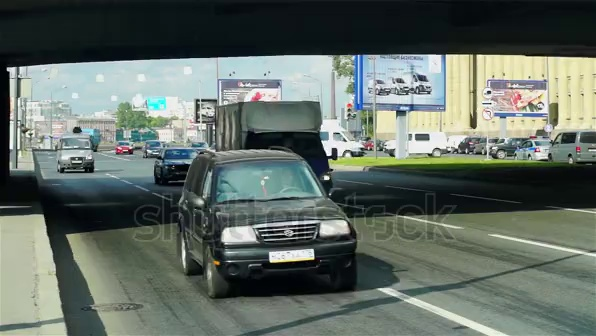licenseplate: (267, 252, 314, 262)
